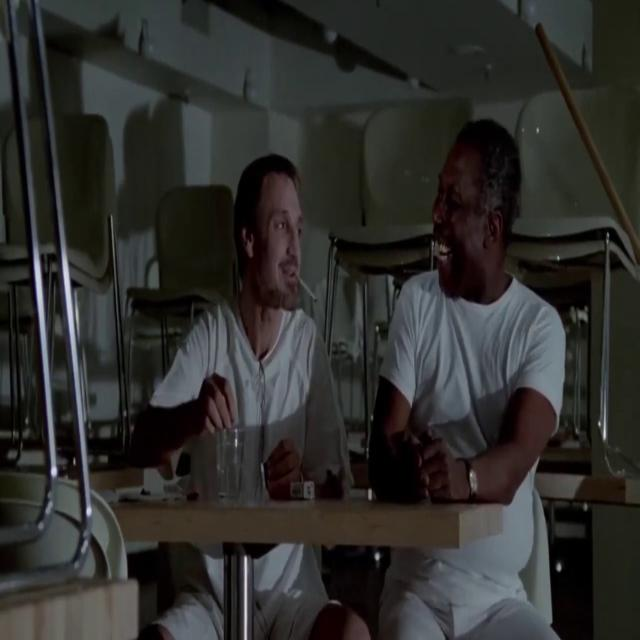Smooking: (297, 270, 322, 305)
